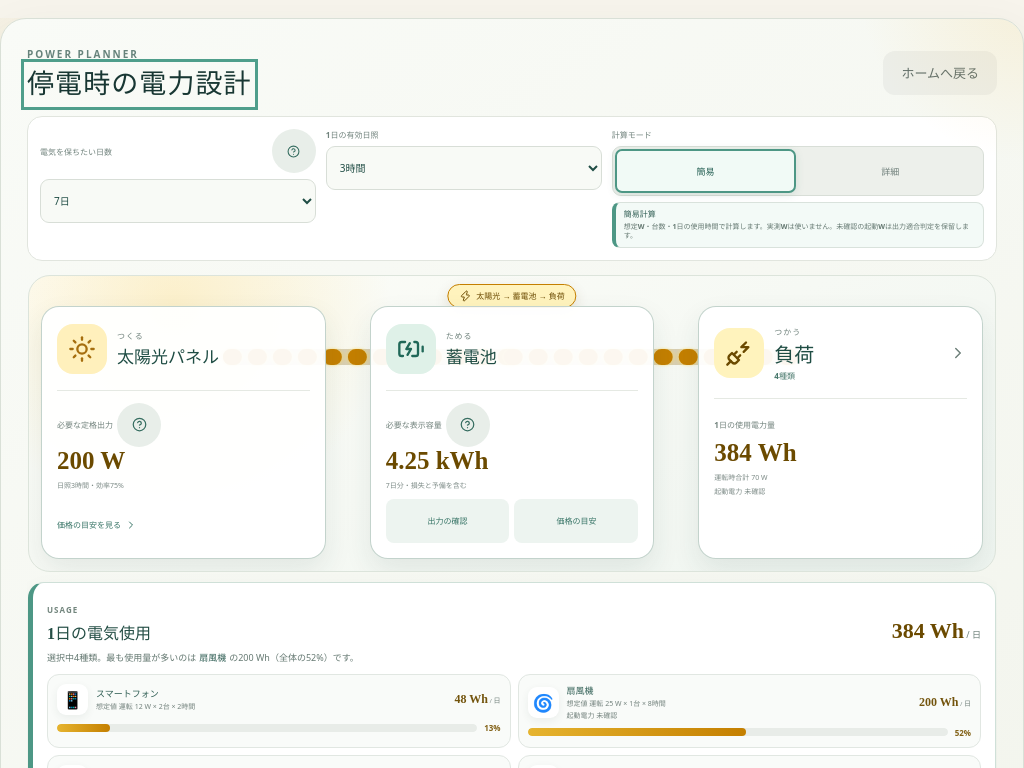
Test case: 停電時の電力設計 › 電気復旧に備える1週間の目安を補足で確認できる
Click the button named "電気備蓄1週間の目安" at point(294, 151), box left=272, top=129, right=316, bottom=173
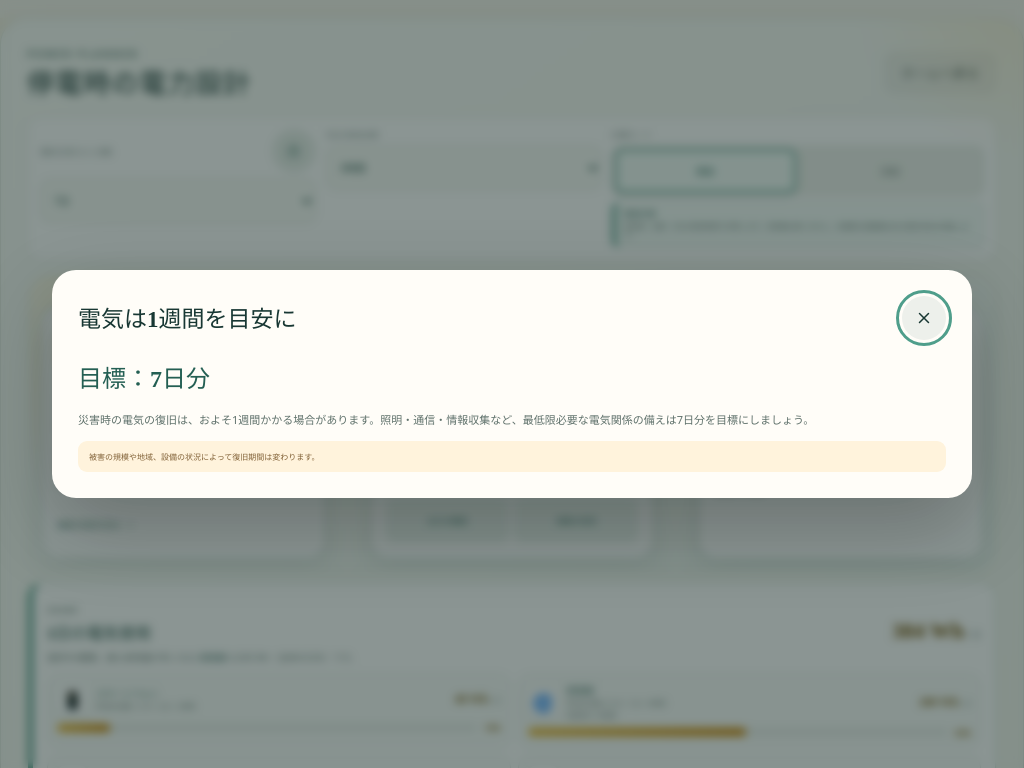
Result: the text "目標：7日分" is shown at left=78, top=366, right=210, bottom=392
Result: the text "電気の復旧は、およそ1週間" is shown at left=78, top=412, right=814, bottom=427
